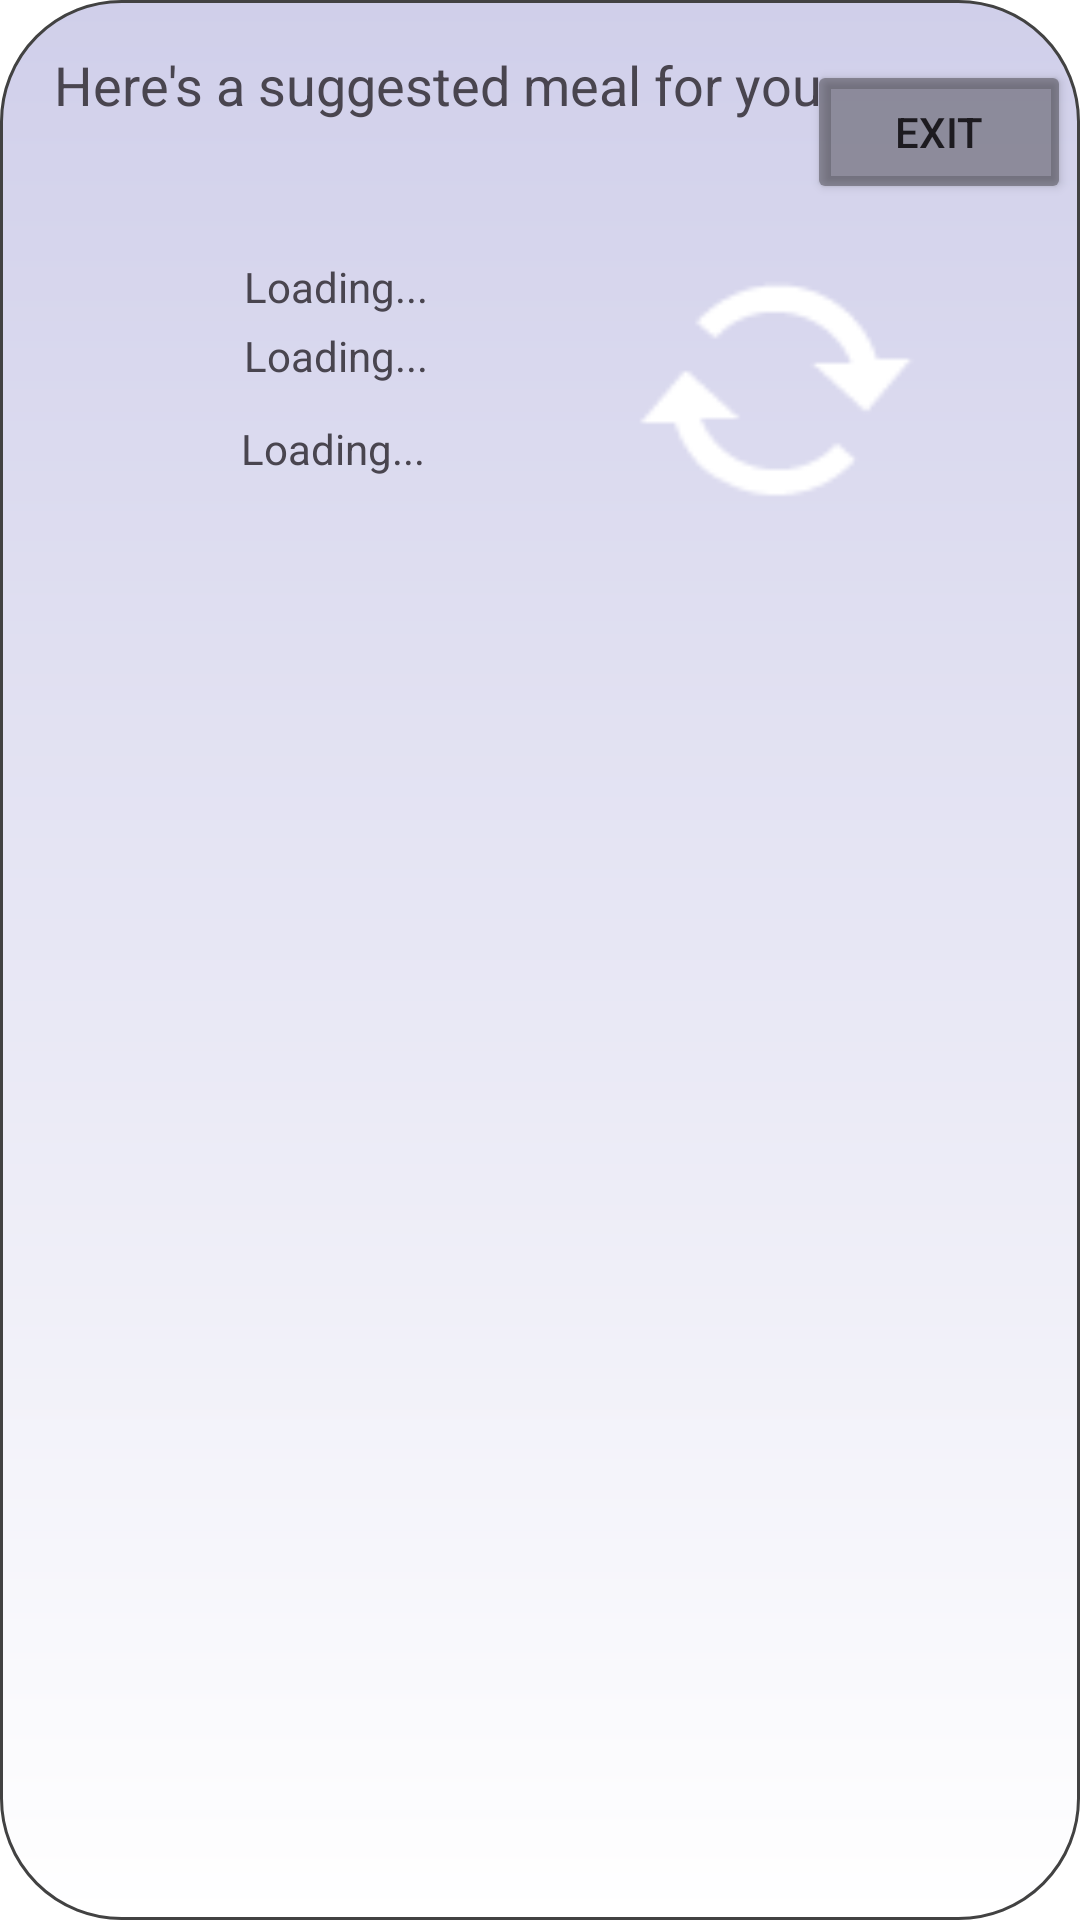

Icons on this 1080w x 1920h Android screen, each with its box as [x1,y1,x2,y2]:
sync: [643,286,909,495]
